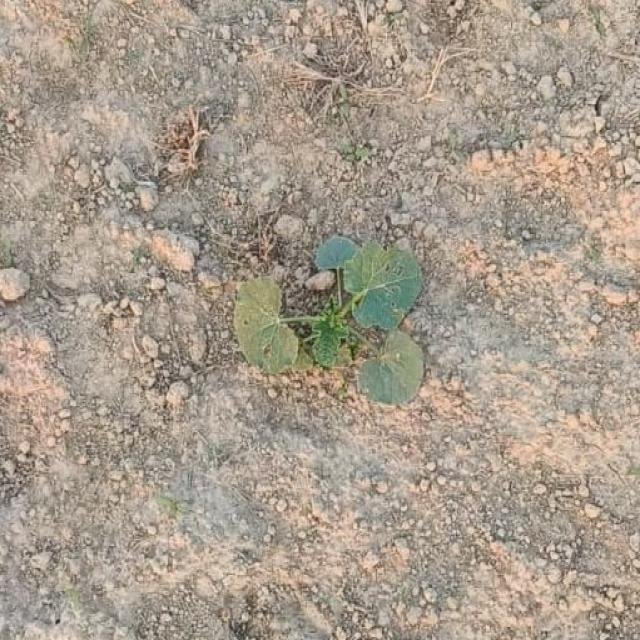plant: (234, 238, 424, 403)
